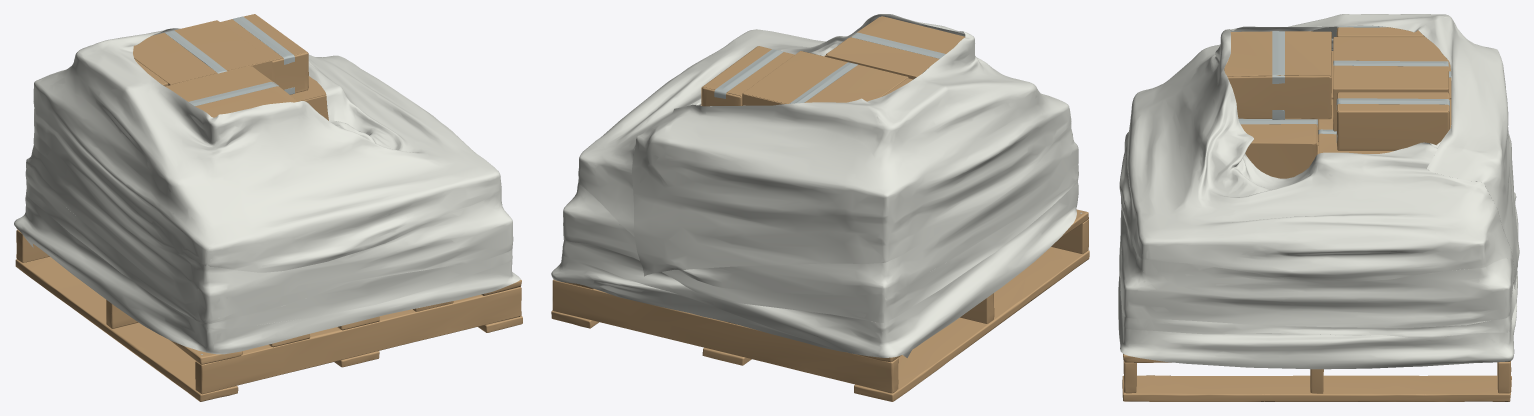
The model's file is pallet_assembly_transparent_a03.glb.
The picture shows the model from 3 angles, left to right: view 1: azimuth 30°, elevation 25°; view 2: azimuth 150°, elevation 25°; view 3: azimuth 270°, elevation 25°; orthographic projection. The views are drawn at different scales.
Bounding box in the file's own units: 0.9116 × 0.6356 × 0.9282.
